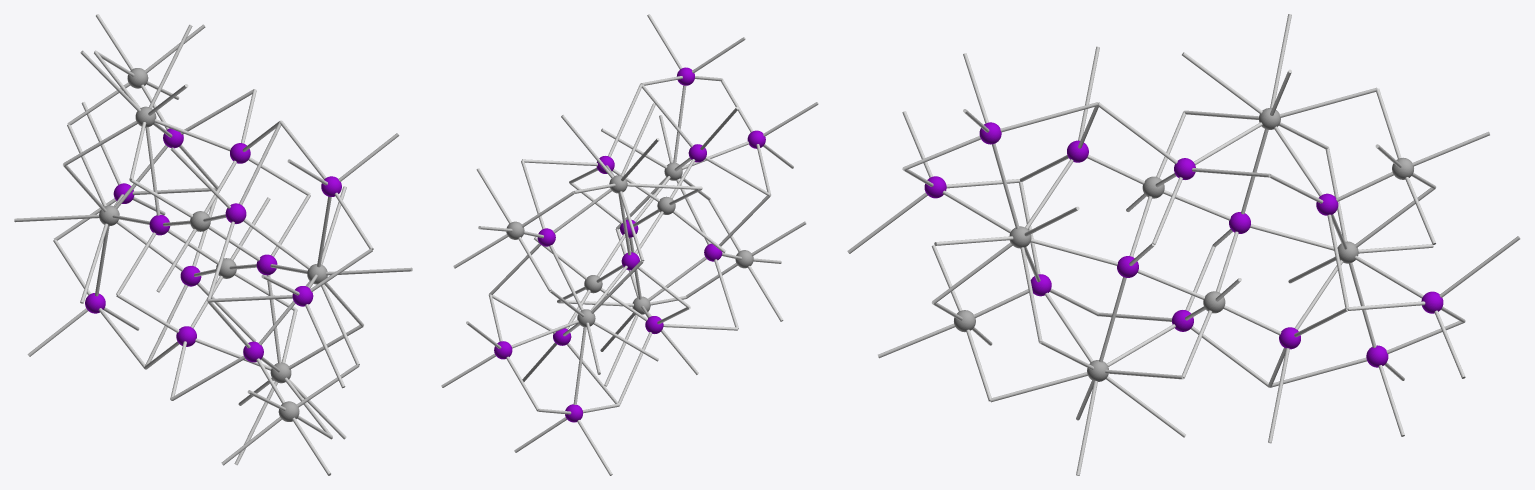
The model's file is structure_mpstyle.glb.
The picture shows the model from 3 angles, left to right: view 1: azimuth 30°, elevation 25°; view 2: azimuth 150°, elevation 25°; view 3: azimuth 270°, elevation 25°; orthographic projection. The views are drawn at different scales.
Parts seen in each view (by area): view 1: world; view 2: world; view 3: world.
Boxes of the visible parts, x1,y1,x2,y2 form: world: (14, 14, 412, 475); world: (441, 14, 818, 475); world: (847, 14, 1520, 475).
Bounding box in the file's own units: 7.38 × 15.08 × 24.33.
